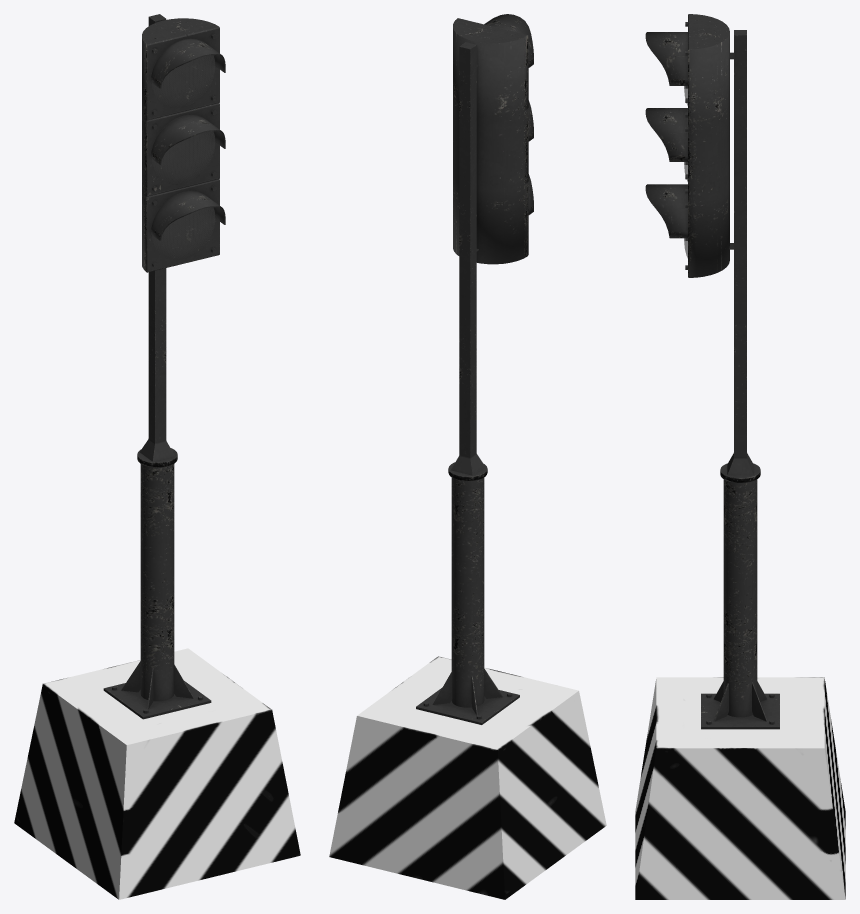
3 views of the same model, side by side, from view 1: azimuth 30°, elevation 25°; view 2: azimuth 150°, elevation 25°; view 3: azimuth 270°, elevation 25° (orthographic). The views are drawn at different scales.
Size of the model in its own units: 0.5714 by 2.47 by 0.5714.
Materials: 3 (3 with a texture image).
